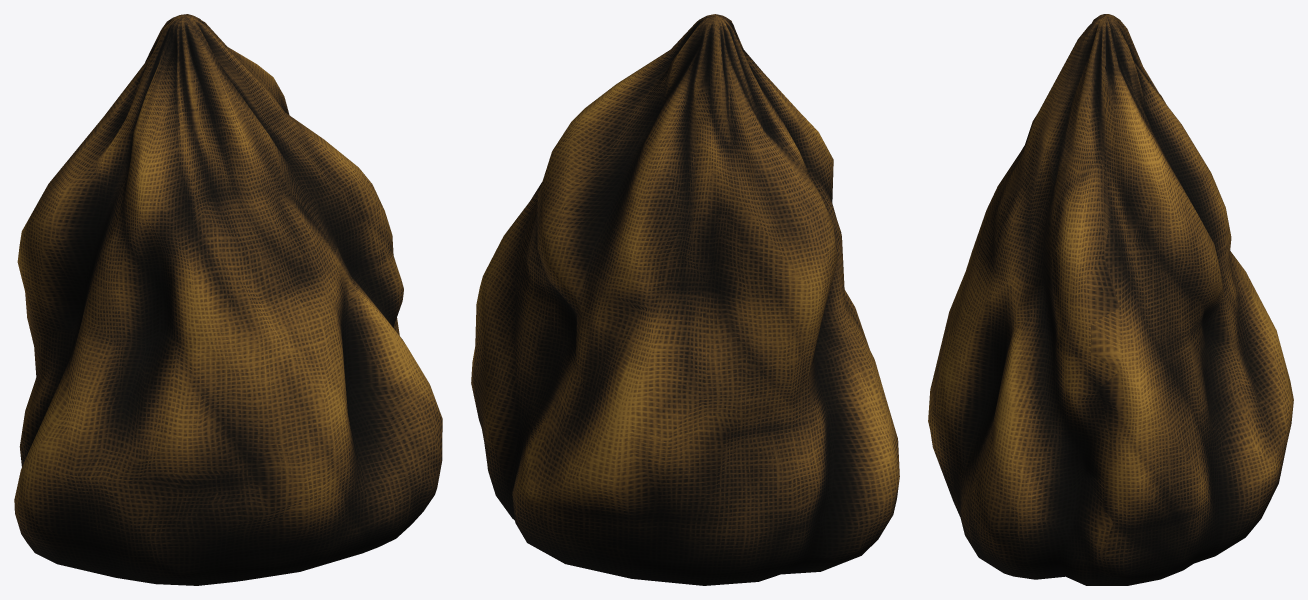
File: mm6_deco_bag01.glb
3 renders of one model, left to right at view 1: azimuth 30°, elevation 25°; view 2: azimuth 150°, elevation 25°; view 3: azimuth 270°, elevation 25°, orthographic. The views are drawn at different scales.
Visible parts, largest first — view 1: Bag01; view 2: Bag01; view 3: Bag01.
Part boxes in pixels (x1,y1,x2,y2): Bag01: (14,14,442,585); Bag01: (471,14,899,585); Bag01: (928,14,1293,585).
Bounding box in the file's own units: 0.8869 × 1.13 × 0.7532.
Materials: 1 (1 with a texture image).
